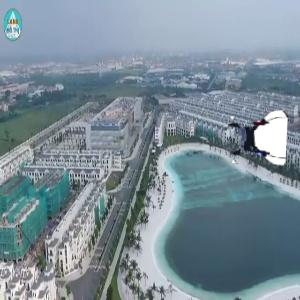drone: (225, 108, 288, 171)
